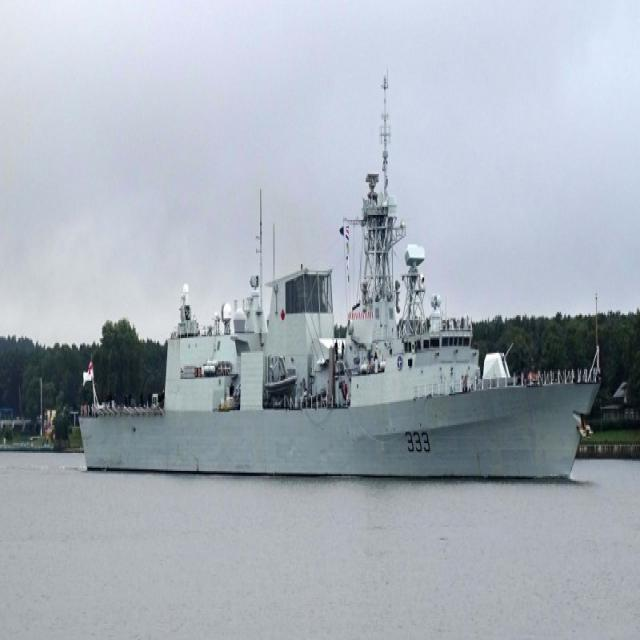Fragata: (69, 167, 604, 492)
